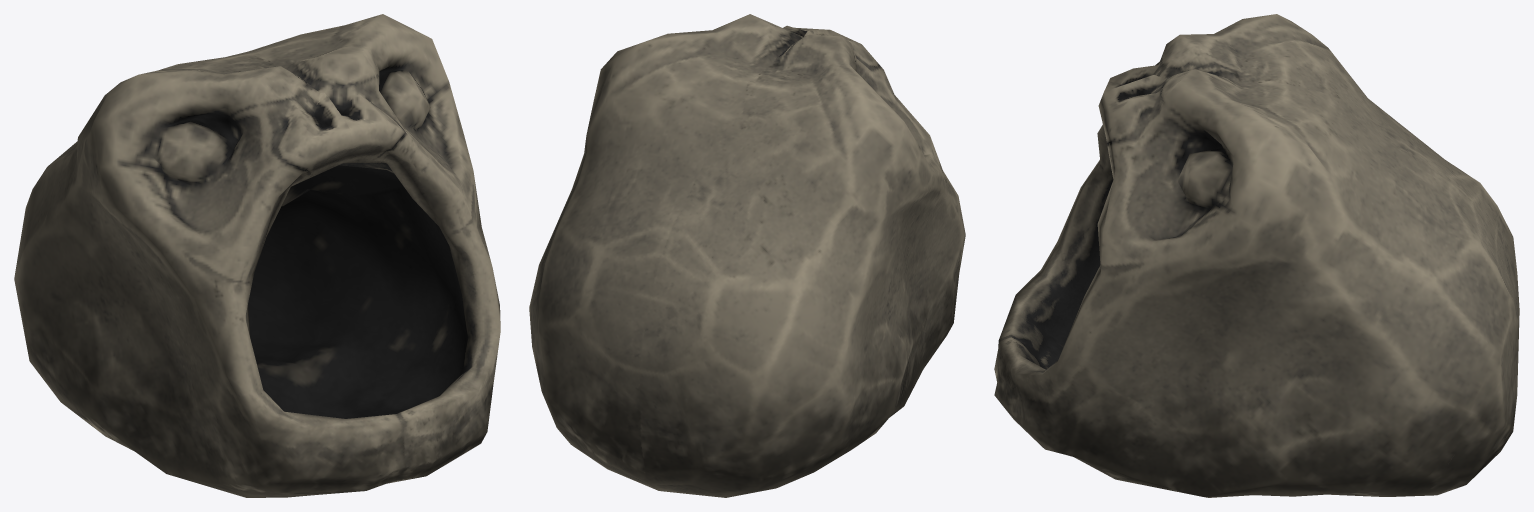
File: hlava.fbx
3 renders of one model, left to right at view 1: azimuth 30°, elevation 25°; view 2: azimuth 150°, elevation 25°; view 3: azimuth 270°, elevation 25°, orthographic. The views are drawn at different scales.
Visible parts, largest first — view 1: PolySphere; view 2: PolySphere; view 3: PolySphere.
Part boxes in pixels (x1=…): PolySphere: x1=14, y1=14, x2=500, y2=497; PolySphere: x1=529, y1=14, x2=965, y2=497; PolySphere: x1=994, y1=14, x2=1519, y2=497.
Bounding box in the file's own units: 229 × 258 × 304.
1 material, 1 textured.
